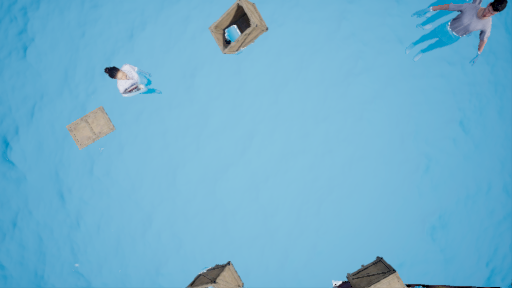person: (409, 3, 512, 64), (106, 62, 166, 106)
